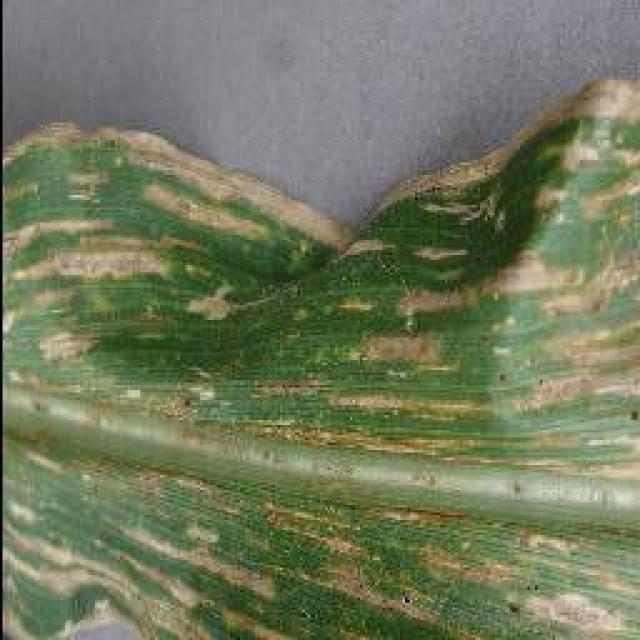Corn_Grey_Leaf_Spot: (15, 157, 640, 640)
